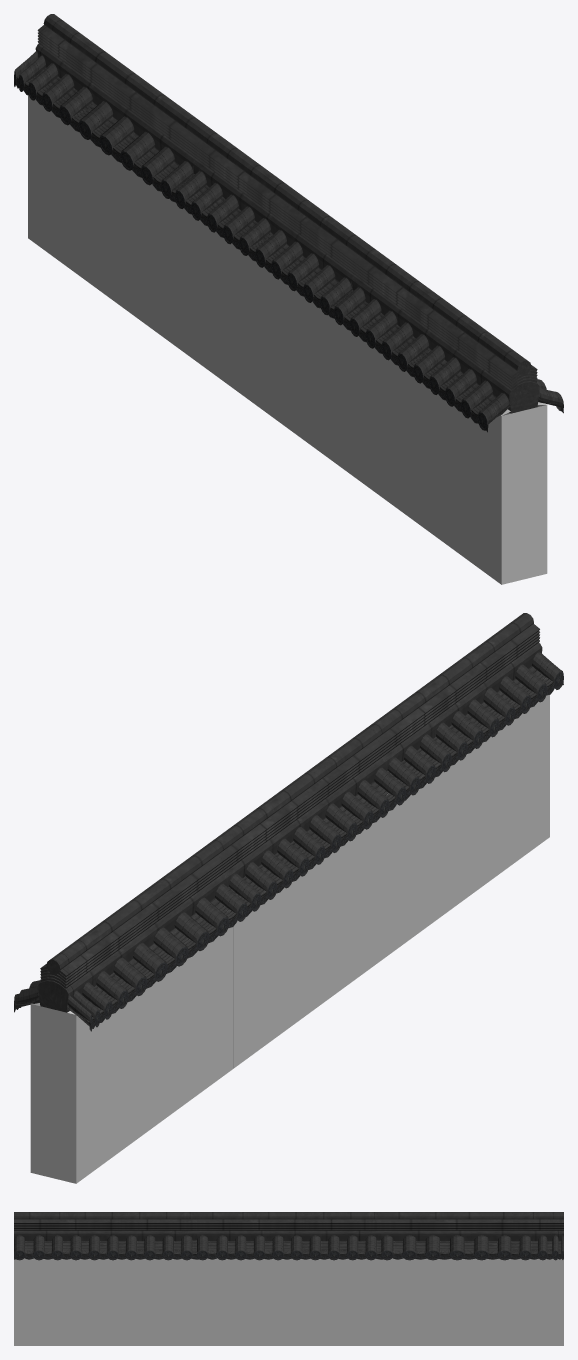
File: SM_JSH_HG_StoneWallH_Splines_12.fbx
3 renders of one model, top to bottom at view 1: azimuth 30°, elevation 25°; view 2: azimuth 150°, elevation 25°; view 3: azimuth 270°, elevation 25°, orthographic. The views are drawn at different scales.
Visible parts, largest first — view 1: SM_JSH_HG_StoneWallH_Splines_12; view 2: SM_JSH_HG_StoneWallH_Splines_12; view 3: SM_JSH_HG_StoneWallH_Splines_12.
Part boxes in pixels (x1,y1,x2,y2): SM_JSH_HG_StoneWallH_Splines_12: [14, 14, 563, 584]; SM_JSH_HG_StoneWallH_Splines_12: [14, 613, 563, 1183]; SM_JSH_HG_StoneWallH_Splines_12: [14, 1212, 563, 1345].
Bounding box in the file's own units: 65.49 × 700 × 178.
